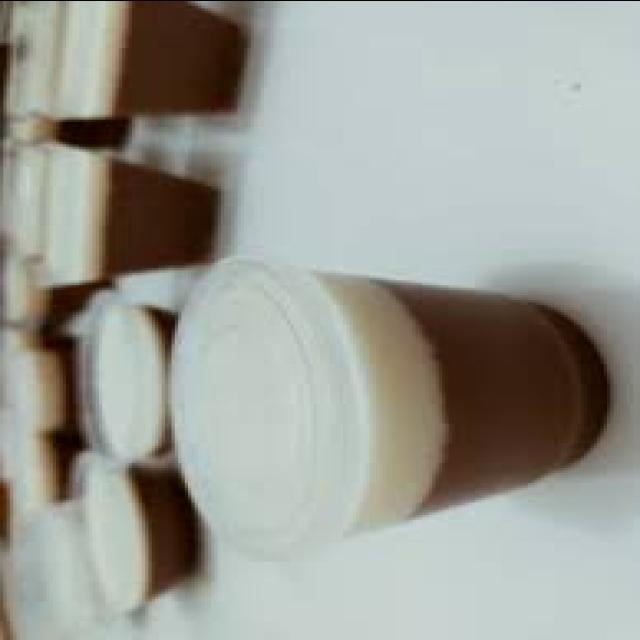puding: (185, 245, 618, 562)
